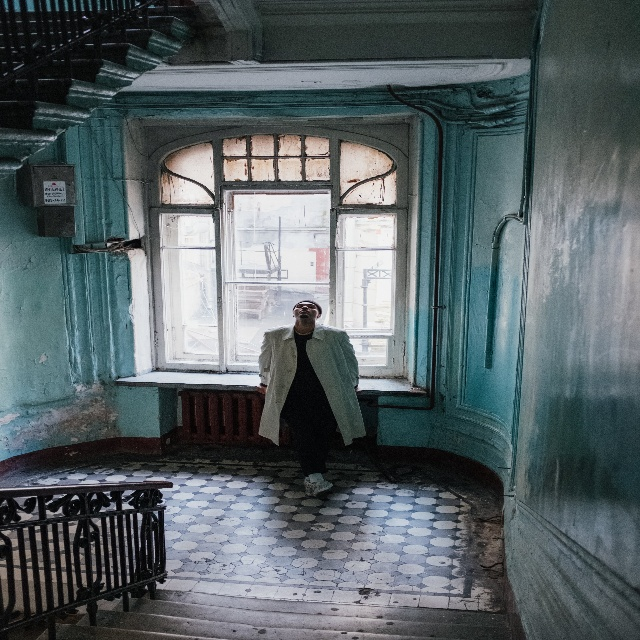Sin_guantes: (257, 381, 266, 394)
